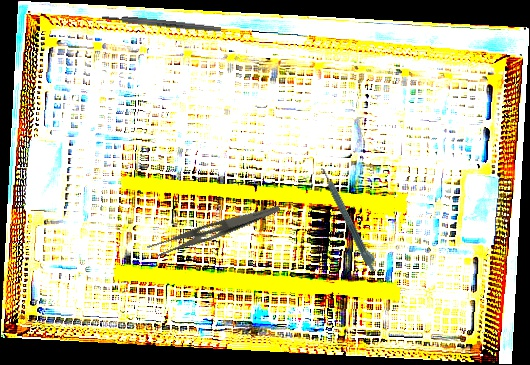Dressing Forceps: (146, 191, 281, 265)
Handpiece: (319, 164, 381, 274)
Scalpel Handle: (101, 13, 222, 34)
